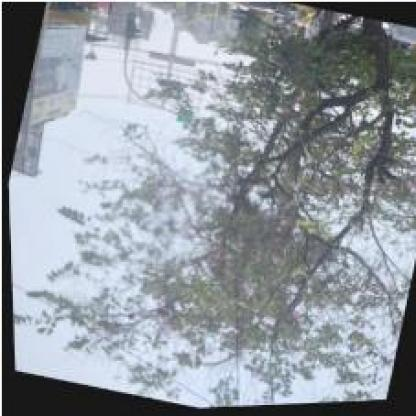green: (123, 10, 137, 38)
